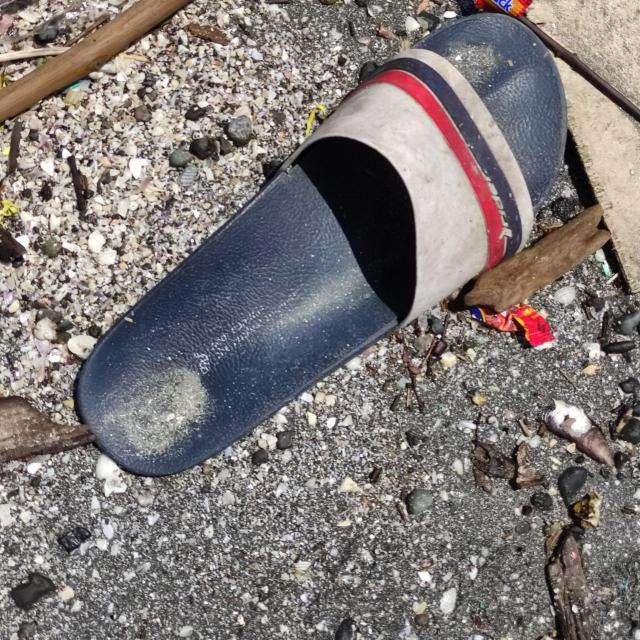rubber_waste: (76, 15, 566, 480)
